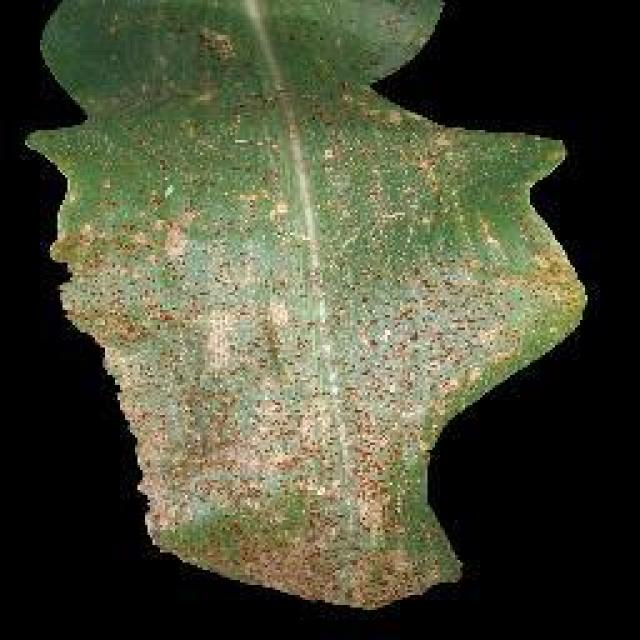Corn Common Rust: (146, 104, 482, 584)
